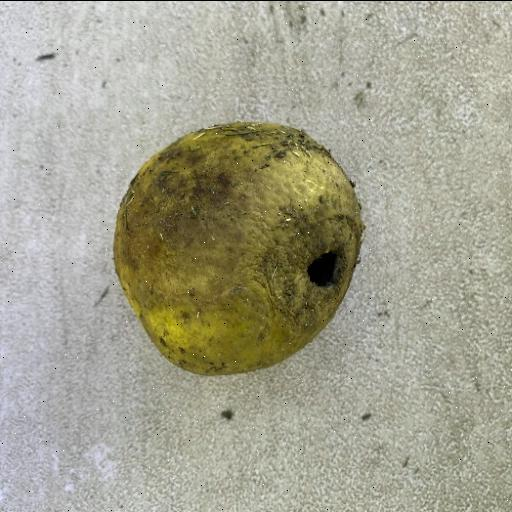Waste: (110, 119, 366, 377)
